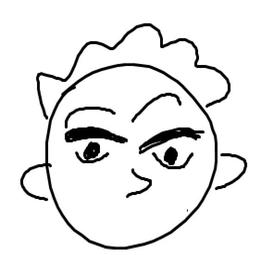ear: (18, 160, 57, 209), (212, 148, 249, 196)
eye: (138, 122, 202, 174), (62, 125, 128, 164)
eyebrow: (60, 98, 121, 127)
frowning_eyebrow: (131, 91, 184, 125)
nose: (120, 164, 156, 203)
